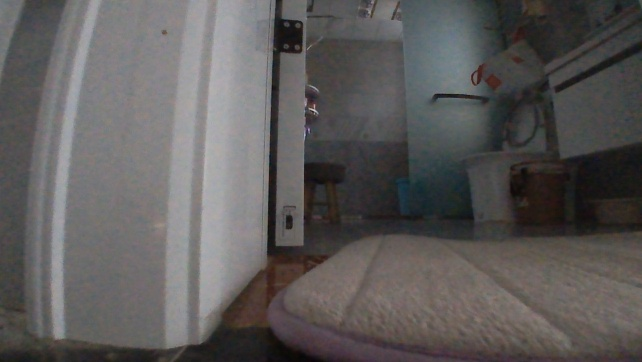blanket: (263, 226, 641, 361)
toilet: (457, 98, 555, 224)
